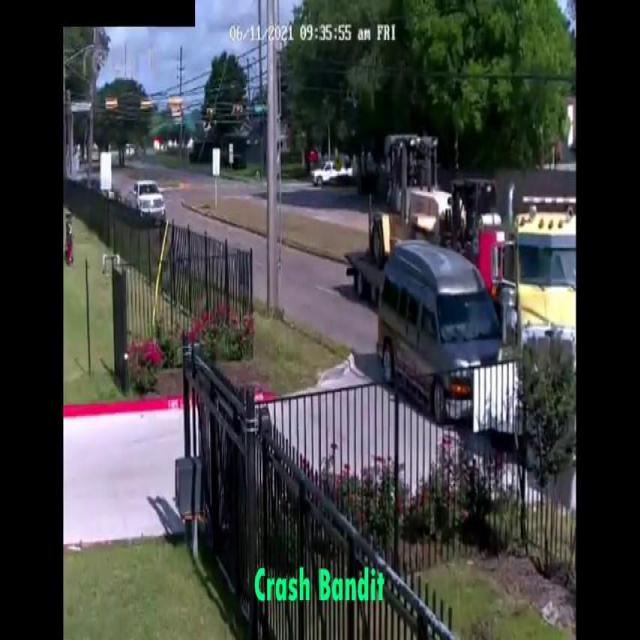moderate: (339, 118, 582, 438)
